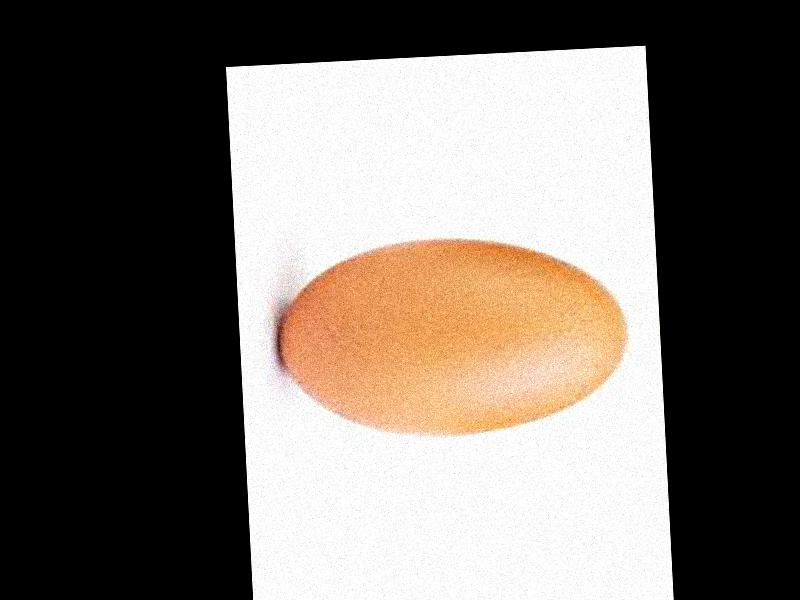Eggs: (275, 231, 631, 441)
